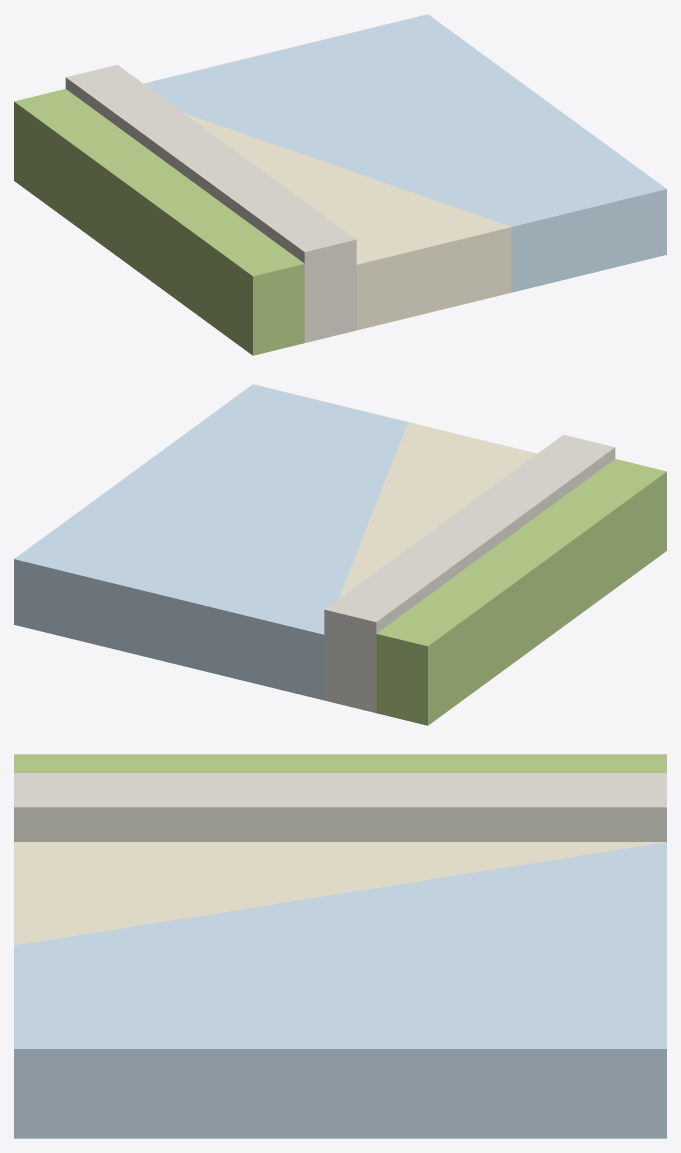
The model's file is road_tile_282.glb.
3 views of the same model, one above another, from view 1: azimuth 30°, elevation 25°; view 2: azimuth 150°, elevation 25°; view 3: azimuth 270°, elevation 25° (orthographic). The views are drawn at different scales.
Parts seen in each view (by area): view 1: roadTile_282; view 2: roadTile_282; view 3: roadTile_282.
Part boxes in pixels (x1,y1,x2,y2): roadTile_282: (14, 14, 666, 355); roadTile_282: (14, 384, 666, 725); roadTile_282: (14, 754, 666, 1138).
Size of the model in its own units: 3 by 0.63 by 3.
